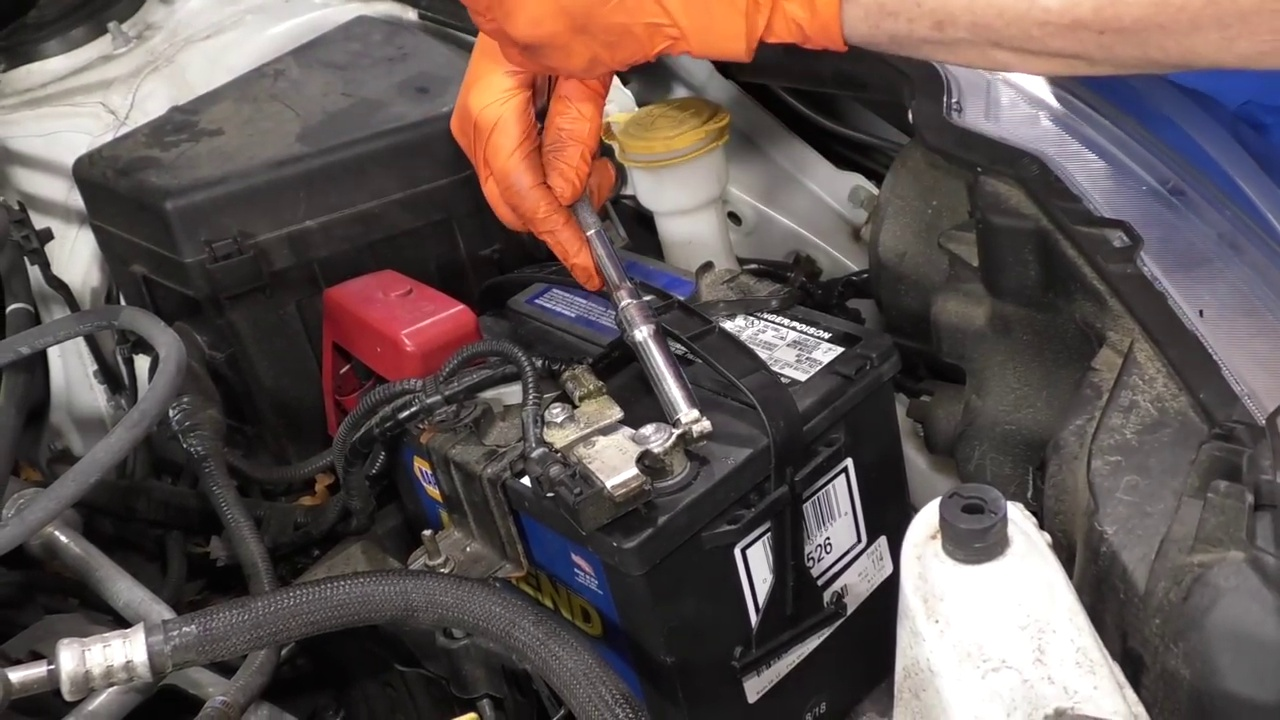battery: (360, 241, 884, 544)
neg_connected: (544, 395, 705, 500)
pos_connected: (316, 256, 474, 432)
